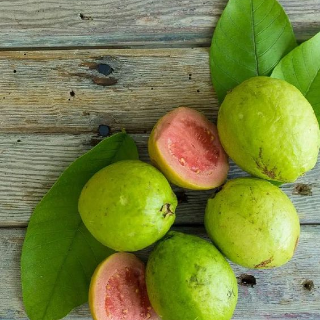oi: (217, 75, 318, 182), (77, 158, 176, 252), (206, 178, 301, 269), (148, 233, 238, 320)
